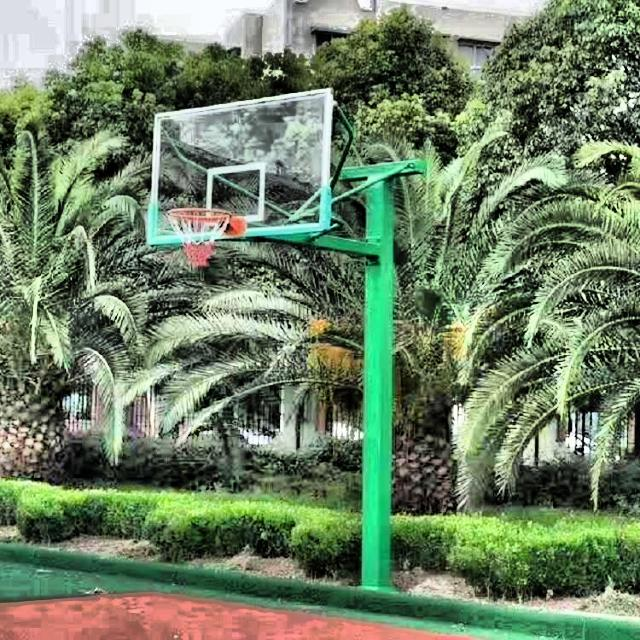rim: (164, 208, 231, 266)
